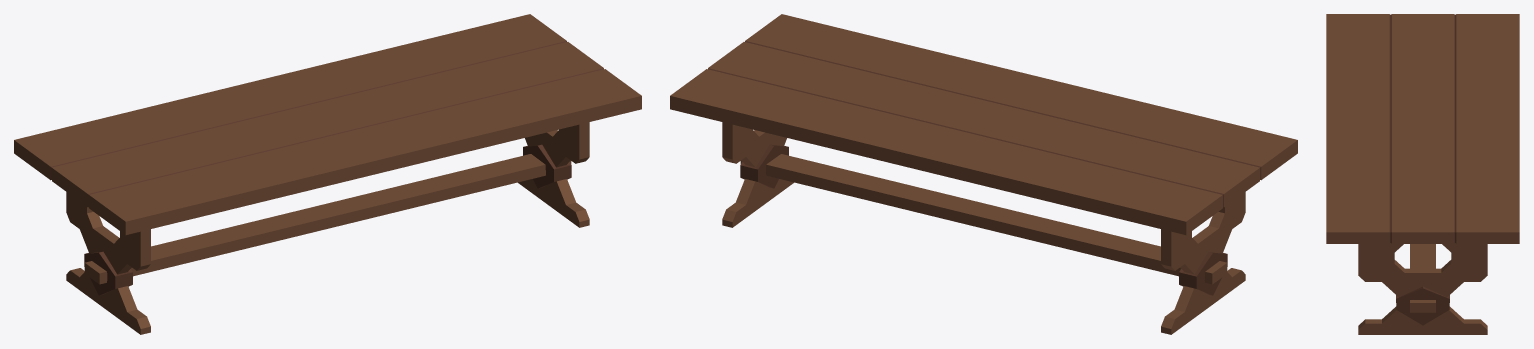
Rendered from Table.fbx.
3 renders of one model, left to right at view 1: azimuth 30°, elevation 25°; view 2: azimuth 150°, elevation 25°; view 3: azimuth 270°, elevation 25°, orthographic. The views are drawn at different scales.
Parts seen in each view (by area): view 1: Table; view 2: Table; view 3: Table.
Boxes of the visible parts, <box> form: Table: <box>14,14,641,334</box>; Table: <box>670,14,1297,334</box>; Table: <box>1326,14,1519,334</box>.
Bounding box in the file's own units: 400 × 100 × 150.
